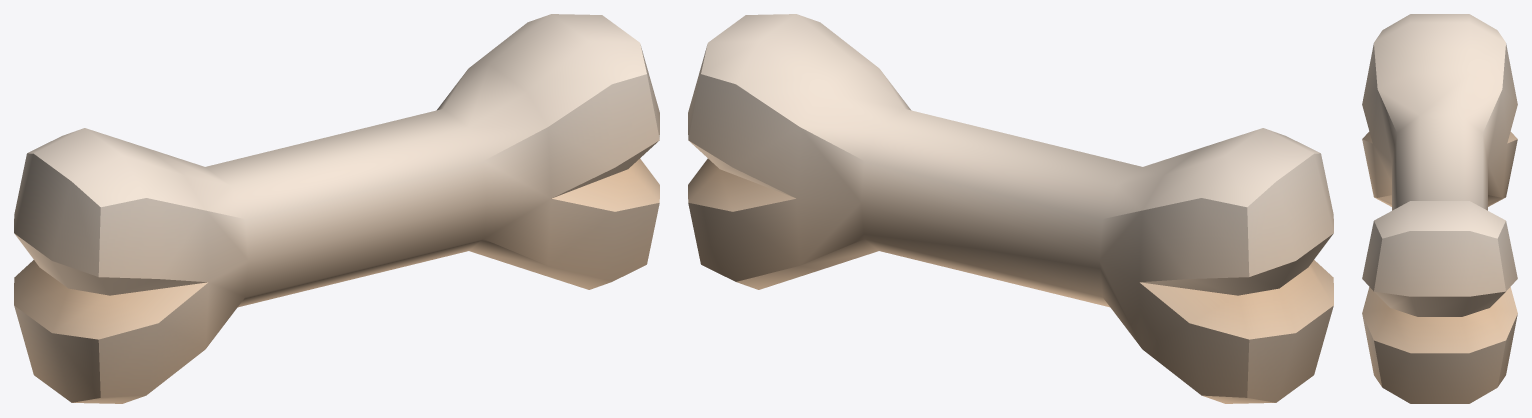
Rendered from bone_A.glb.
3 renders of one model, left to right at view 1: azimuth 30°, elevation 25°; view 2: azimuth 150°, elevation 25°; view 3: azimuth 270°, elevation 25°, orthographic. The views are drawn at different scales.
Visible parts, largest first — view 1: bone_A; view 2: bone_A; view 3: bone_A.
Part boxes in pixels (box(x1,y1,x2,y2)): bone_A: box(14, 14, 659, 403); bone_A: box(688, 14, 1333, 403); bone_A: box(1362, 14, 1517, 403).
Bounding box in the file's own units: 0.707 × 0.2761 × 0.2007.
1 material, 1 textured.
